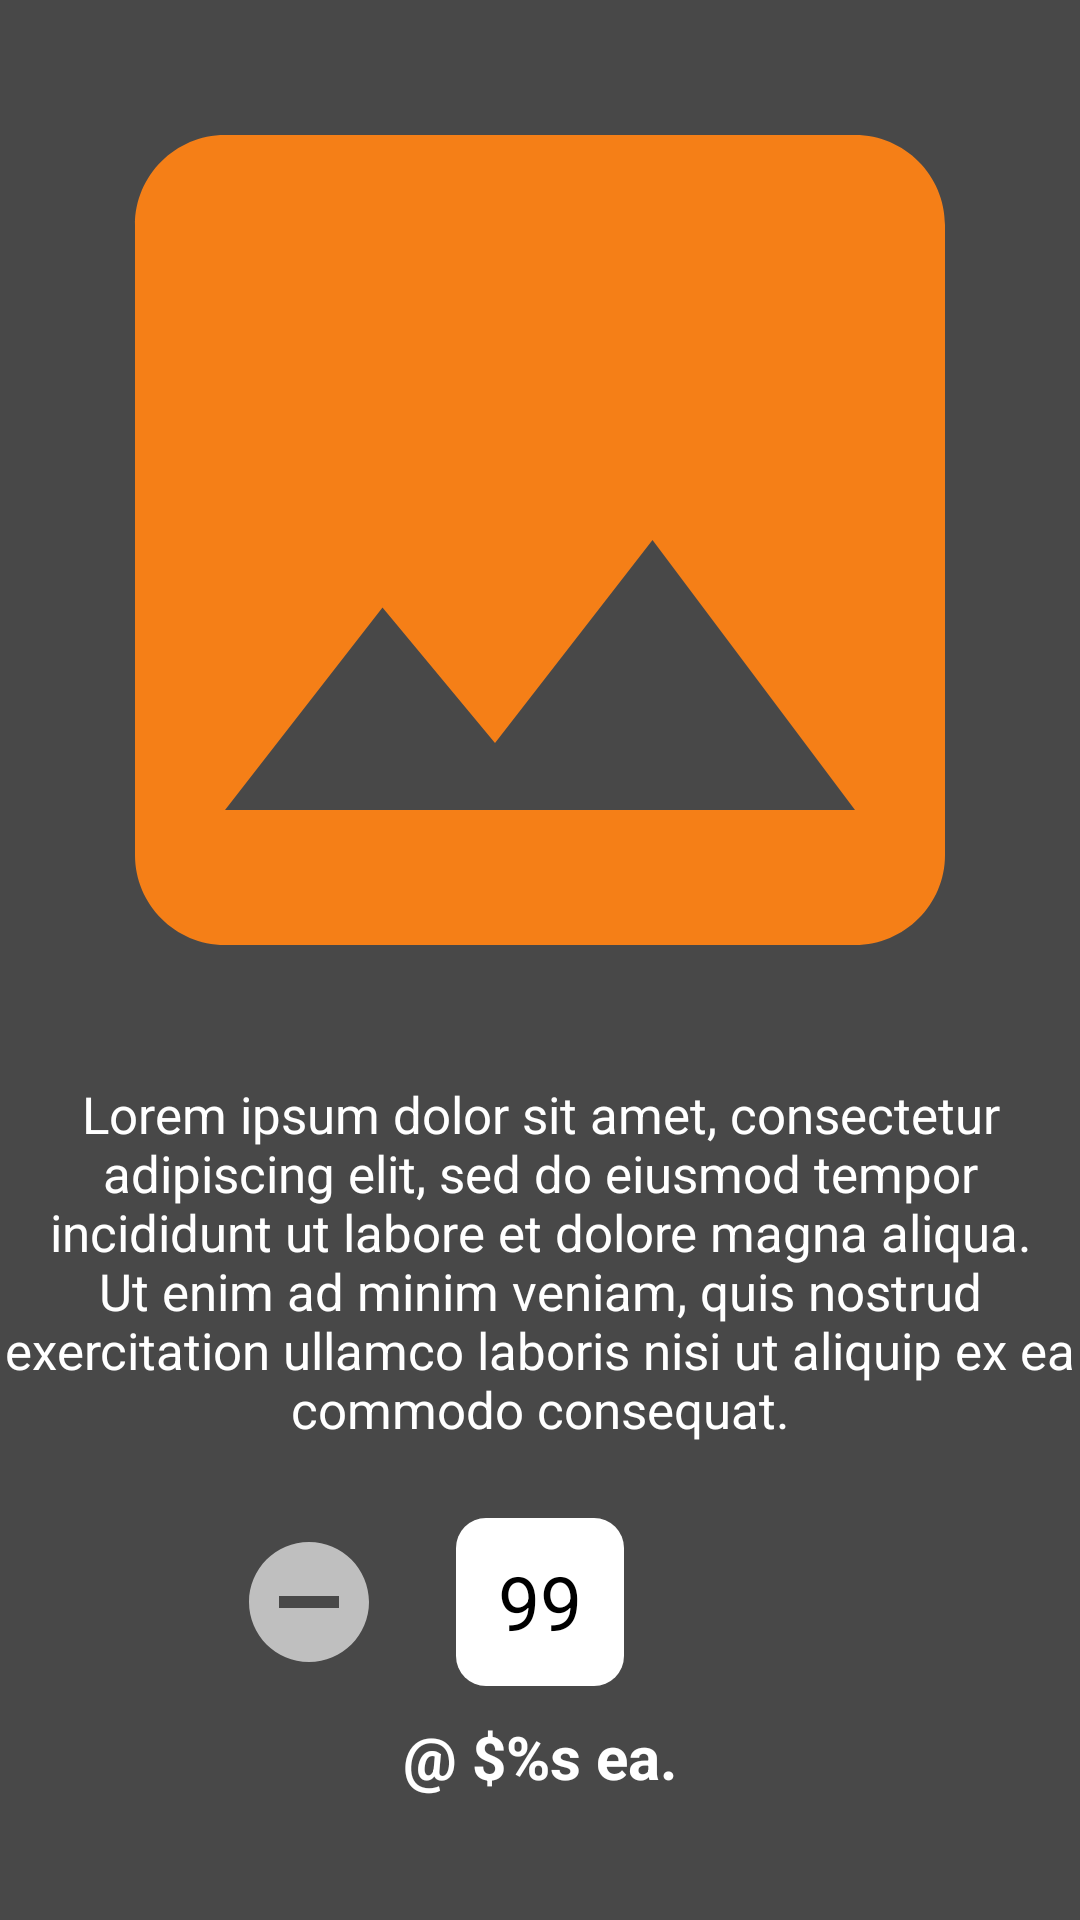

Icon bounding boxes for this 1080*1920 phone screenshot, format [left=x1, top=y1, right=x2, bottom=y2]:
remove circle: [left=249, top=1542, right=369, bottom=1662]
